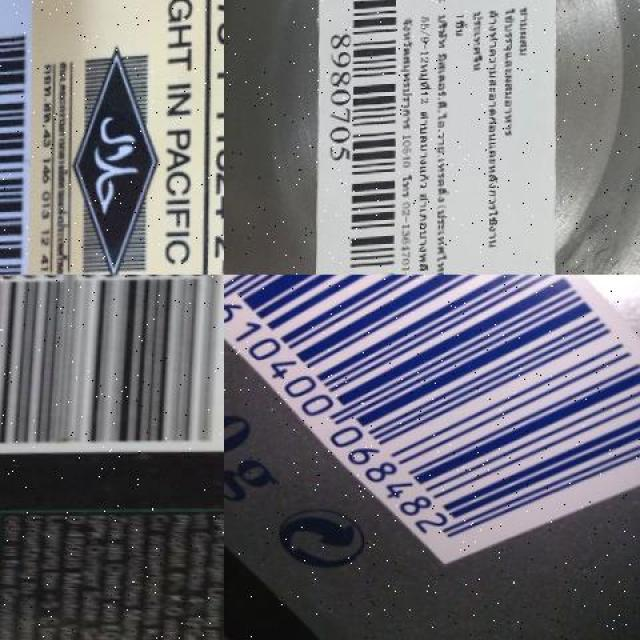Barcode: (224, 274, 640, 574), (0, 274, 224, 466), (320, 0, 415, 275)
